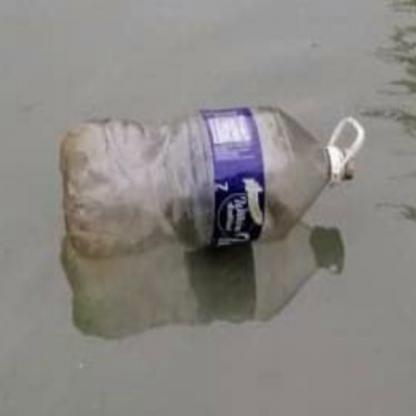Plastic: (60, 108, 367, 256)
